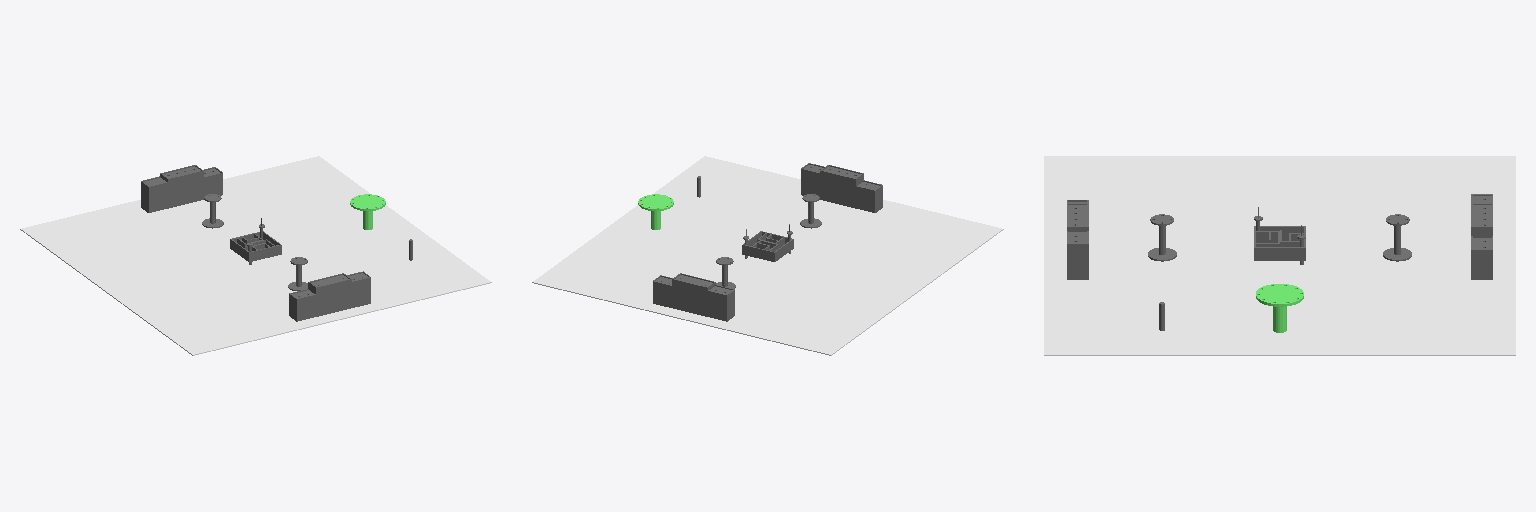
The robot description file, URDF, robot "scene":
<?xml version="1.0" encoding="utf-8"?>
<!-- This URDF was automatically created by SolidWorks to URDF Exporter! Originally created by [author] ([email redacted]) 
     Commit Version: 1.6.0-4-g7f85cfe  Build Version: 1.6.7995.38578
     For more information, please see http://wiki.ros.org/sw_urdf_exporter -->
<robot
  name="scene">
  <link
    name="world">
    <inertial>
      <origin
        xyz="-2.08166817117217E-17 0.005 4.44089209850063E-16"
        rpy="0 0 0" />
      <mass
        value="102.4" />
      <inertia
        ixx="87.3821866666666"
        ixy="-4.736951571734E-18"
        ixz="-9.2370555648813E-15"
        iyy="174.762666666667"
        iyz="3.00926553810506E-33"
        izz="87.3821866666666" />
    </inertial>
    <visual>
      <origin
        xyz="0 0 0"
        rpy="0 0 0" />
      <geometry>
        <mesh
          filename="package://scene/meshes/world.STL" />
      </geometry>
      <material
        name="">
        <color
          rgba="1 1 1 1" />
      </material>
    </visual>
    <collision>
      <origin
        xyz="0 0 0"
        rpy="0 0 0" />
      <geometry>
        <mesh
          filename="package://scene/meshes/world.STL" />
      </geometry>
    </collision>
  </link>
  <link
    name="stair_platform_1">
    <inertial>
      <origin
        xyz="0.011675 0.13426 0.074988"
        rpy="0 0 0" />
      <mass
        value="31.837" />
      <inertia
        ixx="0.25988"
        ixy="-0.039931"
        ixz="-4.4014E-06"
        iyy="1.6384"
        iyz="4.7404E-05"
        izz="1.7779" />
    </inertial>
    <visual>
      <origin
        xyz="0 0 0"
        rpy="0 0 0" />
      <geometry>
        <mesh
          filename="package://scene/meshes/stair_platform_1.STL" />
      </geometry>
      <material
        name="">
        <color
          rgba="0.5 0.5 0.5 1" />
      </material>
    </visual>
    <collision>
      <origin
        xyz="0 0 0"
        rpy="0 0 0" />
      <geometry>
        <mesh
          filename="package://scene/meshes/stair_platform_1.STL" />
      </geometry>
    </collision>
  </link>
  <joint
    name="stair_platform_joint_1"
    type="fixed">
    <origin
      xyz="0 -1.3 0.0100000000000001"
      rpy="1.5707963267949 0 0" />
    <parent
      link="world" />
    <child
      link="stair_platform_1" />
    <axis
      xyz="0 0 0" />
  </joint>
  <link
    name="stair_platform_2">
    <inertial>
      <origin
        xyz="0.011675 0.13426 0.074988"
        rpy="0 0 0" />
      <mass
        value="31.837" />
      <inertia
        ixx="0.25988"
        ixy="-0.039931"
        ixz="-4.4014E-06"
        iyy="1.6384"
        iyz="4.7404E-05"
        izz="1.7779" />
    </inertial>
    <visual>
      <origin
        xyz="0 0 0"
        rpy="0 0 0" />
      <geometry>
        <mesh
          filename="package://scene/meshes/stair_platform_2.STL" />
      </geometry>
      <material
        name="">
        <color
          rgba="0.5 0.5 0.5 1" />
      </material>
    </visual>
    <collision>
      <origin
        xyz="0 0 0"
        rpy="0 0 0" />
      <geometry>
        <mesh
          filename="package://scene/meshes/stair_platform_2.STL" />
      </geometry>
    </collision>
  </link>
  <joint
    name="stair_platform_joint_2"
    type="fixed">
    <origin
      xyz="0 1.3 0.00999999999999992"
      rpy="1.5707963267949 0 3.14159265358979" />
    <parent
      link="world" />
    <child
      link="stair_platform_2" />
    <axis
      xyz="0 0 0" />
  </joint>
  <link
    name="storage_bin">
    <inertial>
      <origin
        xyz="0.175 0.05 -0.175"
        rpy="0 0 0" />
      <mass
        value="3.3504" />
      <inertia
        ixx="0.045251"
        ixy="1.8121E-18"
        ixz="-0.0022893"
        iyy="0.082431"
        iyz="-3.0052E-18"
        izz="0.042765" />
    </inertial>
    <visual>
      <origin
        xyz="0 0 0"
        rpy="0 0 0" />
      <geometry>
        <mesh
          filename="package://scene/meshes/storage_bin.STL" />
      </geometry>
      <material
        name="">
        <color
          rgba="0.5 0.5 0.5 1" />
      </material>
    </visual>
    <collision>
      <origin
        xyz="0 0 0"
        rpy="0 0 0" />
      <geometry>
        <mesh
          filename="package://scene/meshes/storage_bin.STL" />
      </geometry>
    </collision>
  </link>
  <joint
    name="storage_bin_link"
    type="fixed">
    <origin
      xyz="-0.174999999999997 -0.174999999999999 0.05"
      rpy="1.5707963267949 0 0" />
    <parent
      link="world" />
    <child
      link="storage_bin" />
    <axis
      xyz="0 0 0" />
  </joint>
  <link
    name="circle_platform_1">
    <inertial>
      <origin
        xyz="9.7476E-20 0.11709 1.1102E-16"
        rpy="0 0 0" />
      <mass
        value="1.0862" />
      <inertia
        ixx="0.013509"
        ixy="-1.5131E-20"
        ixz="-2.0832E-19"
        iyy="0.0027529"
        iyz="-3.0985E-18"
        izz="0.013509" />
    </inertial>
    <visual>
      <origin
        xyz="0 0 0"
        rpy="0 0 0" />
      <geometry>
        <mesh
          filename="package://scene/meshes/circle_platform_1.STL" />
      </geometry>
      <material
        name="">
        <color
          rgba="0.5 0.5 0.5 1" />
      </material>
    </visual>
    <collision>
      <origin
        xyz="0 0 0"
        rpy="0 0 0" />
      <geometry>
        <mesh
          filename="package://scene/meshes/circle_platform_1.STL" />
      </geometry>
    </collision>
  </link>
  <joint
    name="circle_platform_link_1"
    type="fixed">
    <origin
      xyz="0 -0.8 0.01"
      rpy="1.5708 0 0" />
    <parent
      link="world" />
    <child
      link="circle_platform_1" />
    <axis
      xyz="0 0 0" />
  </joint>
  <link
    name="circle_platform_2">
    <inertial>
      <origin
        xyz="5.6008E-15 0.11709 1.1102E-16"
        rpy="0 0 0" />
      <mass
        value="1.0862" />
      <inertia
        ixx="0.013509"
        ixy="-1.3032E-18"
        ixz="-1.8776E-19"
        iyy="0.0027529"
        iyz="-3.0215E-18"
        izz="0.013509" />
    </inertial>
    <visual>
      <origin
        xyz="0 0 0"
        rpy="0 0 0" />
      <geometry>
        <mesh
          filename="package://scene/meshes/circle_platform_2.STL" />
      </geometry>
      <material
        name="">
        <color
          rgba="0.5 0.5 0.5 1" />
      </material>
    </visual>
    <collision>
      <origin
        xyz="0 0 0"
        rpy="0 0 0" />
      <geometry>
        <mesh
          filename="package://scene/meshes/circle_platform_2.STL" />
      </geometry>
    </collision>
  </link>
  <joint
    name="circle_platform_link_2"
    type="fixed">
    <origin
      xyz="0 0.8 0.01"
      rpy="1.5708 0 3.1416" />
    <parent
      link="world" />
    <child
      link="circle_platform_2" />
    <axis
      xyz="0 0 0" />
  </joint>
  <link
    name="stacking_platform_1">
    <inertial>
      <origin
        xyz="0 0.12346 0"
        rpy="0 0 0" />
      <mass
        value="0.17932" />
      <inertia
        ixx="0.0008648"
        ixy="-2.3084E-36"
        ixz="3.1251E-37"
        iyy="3.1205E-05"
        iyz="-2.2534E-21"
        izz="0.0008648" />
    </inertial>
    <visual>
      <origin
        xyz="0 0 0"
        rpy="0 0 0" />
      <geometry>
        <mesh
          filename="package://scene/meshes/stacking_platform_1.STL" />
      </geometry>
      <material
        name="">
        <color
          rgba="0.5 0.5 0.5 1" />
      </material>
    </visual>
    <collision>
      <origin
        xyz="0 0 0"
        rpy="0 0 0" />
      <geometry>
        <mesh
          filename="package://scene/meshes/stacking_platform_1.STL" />
      </geometry>
    </collision>
  </link>
  <joint
    name="stacking_platform_link_1"
    type="fixed">
    <origin
      xyz="-0.147999999999997 -0.147999999999999 0.01"
      rpy="1.5707963267949 0 0" />
    <parent
      link="world" />
    <child
      link="stacking_platform_1" />
    <axis
      xyz="0 1 0" />
  </joint>
  <link
    name="stacking_platform_2">
    <inertial>
      <origin
        xyz="0 0.12346 0"
        rpy="0 0 0" />
      <mass
        value="0.17932" />
      <inertia
        ixx="0.0008648"
        ixy="1.0597E-34"
        ixz="-4.133E-35"
        iyy="3.1205E-05"
        iyz="1.6412E-20"
        izz="0.0008648" />
    </inertial>
    <visual>
      <origin
        xyz="0 0 0"
        rpy="0 0 0" />
      <geometry>
        <mesh
          filename="package://scene/meshes/stacking_platform_2.STL" />
      </geometry>
      <material
        name="">
        <color
          rgba="0.5 0.5 0.5 1" />
      </material>
    </visual>
    <collision>
      <origin
        xyz="0 0 0"
        rpy="0 0 0" />
      <geometry>
        <mesh
          filename="package://scene/meshes/stacking_platform_2.STL" />
      </geometry>
    </collision>
  </link>
  <joint
    name="stacking_platform_link_2"
    type="fixed">
    <origin
      xyz="0.148 0.148 0.01"
      rpy="1.5708 0 3.1416" />
    <parent
      link="world" />
    <child
      link="stacking_platform_2" />
    <axis
      xyz="0 0 0" />
  </joint>
  <link
    name="rotating_disk">
    <inertial>
      <origin
        xyz="2.2204E-16 0.1866 1.1102E-16"
        rpy="0 0 0" />
      <mass
        value="3.6113" />
      <inertia
        ixx="0.038817"
        ixy="8.5236E-18"
        ixz="-1.0408E-17"
        iyy="0.024416"
        iyz="6.8656E-18"
        izz="0.038817" />
    </inertial>
    <visual>
      <origin
        xyz="0 0 0"
        rpy="0 0 0" />
      <geometry>
        <mesh
          filename="package://scene/meshes/rotating_disk.STL" />
      </geometry>
      <material
        name="">
        <color
          rgba="0.5 1 0.5 1" />
      </material>
    </visual>
    <collision>
      <origin
        xyz="0 0 0"
        rpy="0 0 0" />
      <geometry>
        <mesh
          filename="package://scene/meshes/rotating_disk.STL" />
      </geometry>
    </collision>
  </link>
  <joint
    name="rotating_disk_joint"
    type="revolute">
    <origin
      xyz="1.2 0 0.01"
      rpy="1.5708 0 0.66939" />
    <parent
      link="world" />
    <child
      link="rotating_disk" />
    <axis
      xyz="0 1 0" />
    <limit
      lower="0"
      upper="0"
      effort="0"
      velocity="0" />
  </joint>
  <link
    name="roadblock">
    <inertial>
      <origin
        xyz="2.2204E-16 0.1 0"
        rpy="0 0 0" />
      <mass
        value="0.25133" />
      <inertia
        ixx="0.00086289"
        ixy="-9.7136E-37"
        ixz="0"
        iyy="5.0265E-05"
        iyz="6.2676E-37"
        izz="0.00086289" />
    </inertial>
    <visual>
      <origin
        xyz="0 0 0"
        rpy="0 0 0" />
      <geometry>
        <mesh
          filename="package://scene/meshes/roadblock.STL" />
      </geometry>
      <material
        name="">
        <color
          rgba="0.5 0.5 0.5 1" />
      </material>
    </visual>
    <collision>
      <origin
        xyz="0 0 0"
        rpy="0 0 0" />
      <geometry>
        <mesh
          filename="package://scene/meshes/roadblock.STL" />
      </geometry>
    </collision>
  </link>
  <joint
    name="roadblock_joint"
    type="fixed">
    <origin
      xyz="1.2 -0.8 0.01"
      rpy="1.5708 0 0" />
    <parent
      link="world" />
    <child
      link="roadblock" />
    <axis
      xyz="0 0 0" />
  </joint>
</robot>

--- Facts derived from the render (not from the file) ---
Views: 3 orthographic renders of the robot side by side, from view 1: azimuth 30°, elevation 25°; view 2: azimuth 150°, elevation 25°; view 3: azimuth 270°, elevation 25°.
Model scene with 10 links and 9 joints (1 revolute, 8 fixed), rooted at world, posed all joints at 0.
Links seen in each view (by area): view 1: world, stair_platform_1, stair_platform_2, storage_bin, rotating_disk; view 2: world, stair_platform_2, stair_platform_1, storage_bin, rotating_disk; view 3: world, stair_platform_2, stair_platform_1, storage_bin, rotating_disk, circle_platform_1, circle_platform_2.
Boxes of the visible links, bbox=[...] form: world: bbox=[20, 156, 491, 355]; stair_platform_1: bbox=[289, 271, 370, 321]; stair_platform_2: bbox=[141, 165, 222, 212]; storage_bin: bbox=[230, 231, 281, 261]; rotating_disk: bbox=[350, 194, 385, 229]; world: bbox=[532, 156, 1003, 355]; stair_platform_2: bbox=[653, 273, 734, 321]; stair_platform_1: bbox=[801, 163, 882, 212]; storage_bin: bbox=[742, 231, 793, 261]; rotating_disk: bbox=[638, 194, 673, 229]; world: bbox=[1044, 156, 1515, 355]; stair_platform_2: bbox=[1471, 194, 1492, 279]; stair_platform_1: bbox=[1067, 200, 1088, 279]; storage_bin: bbox=[1254, 226, 1305, 260]; rotating_disk: bbox=[1256, 284, 1303, 332]; circle_platform_1: bbox=[1148, 214, 1176, 261]; circle_platform_2: bbox=[1383, 214, 1411, 261].
Bounding box of the posed robot: 3.2 × 3.2 × 0.31 m (x, y, z).
10 mesh visuals loaded from 10 distinct referenced files (10 binary STL).